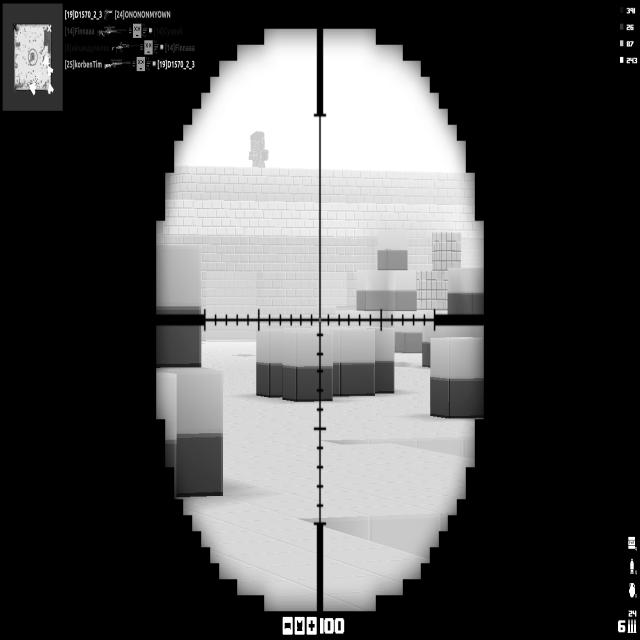Head: (250, 131, 264, 153)
Player: (247, 127, 269, 168)
